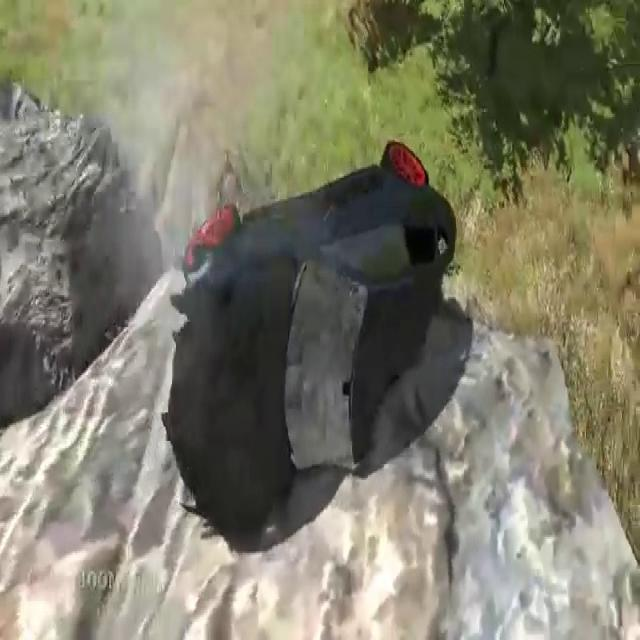accident: (158, 136, 460, 547)
